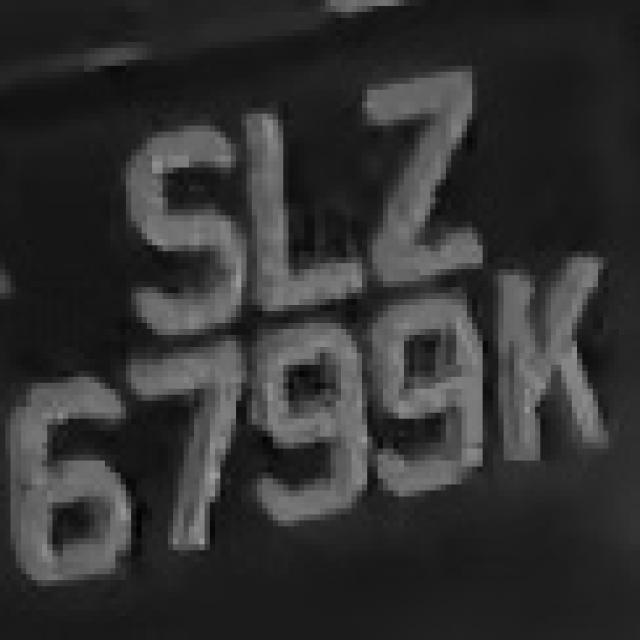6: (0, 365, 126, 604)
7: (120, 329, 252, 574)
9: (368, 269, 498, 532), (247, 305, 388, 538)
K: (482, 233, 608, 484)
L: (236, 84, 378, 329)
S: (105, 108, 246, 347)
Z: (346, 54, 483, 305)
